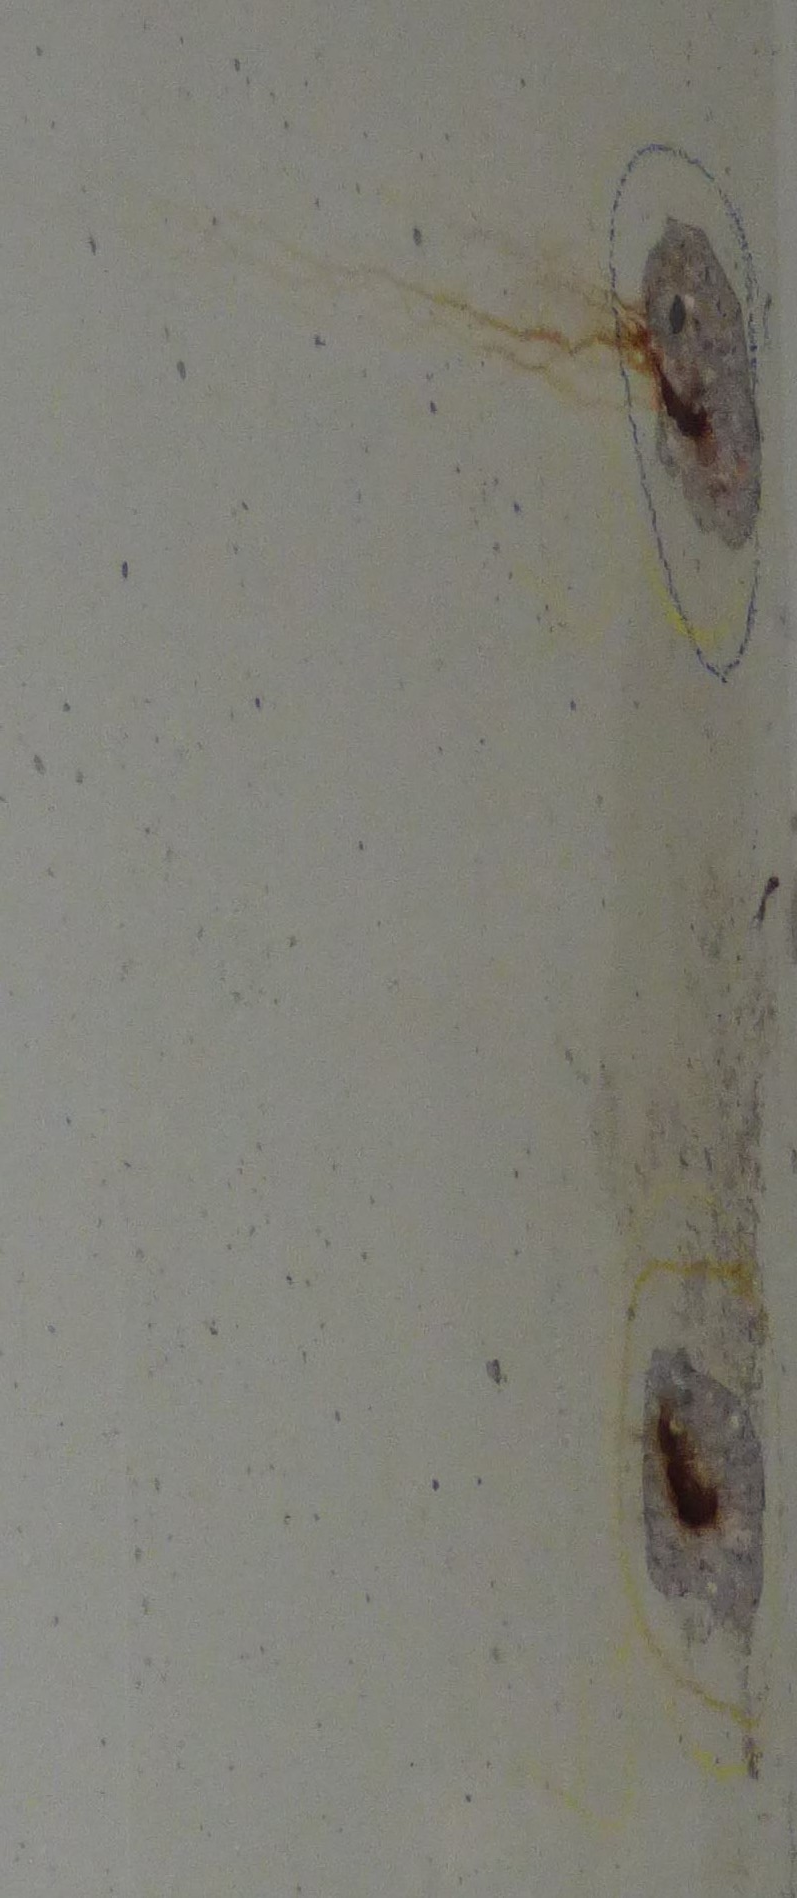Exposed reinforcement: (655, 1415, 719, 1529), (654, 358, 709, 439)
Spalling: (640, 212, 764, 551), (641, 1345, 767, 1643)
